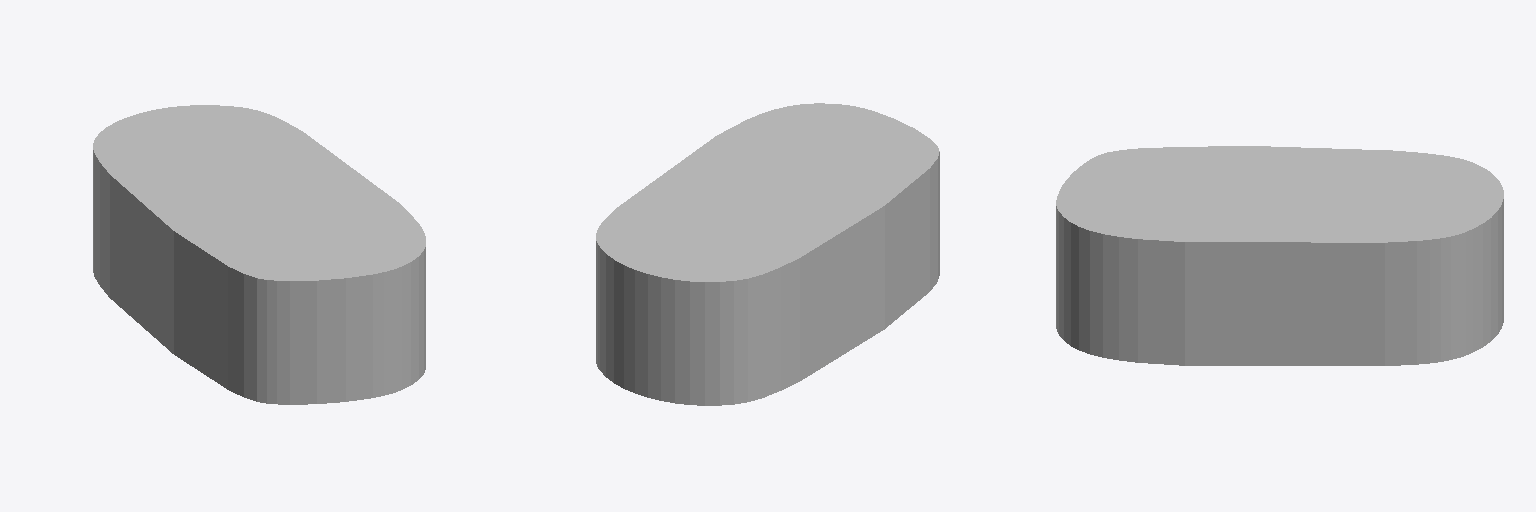
Rendered from mesa-obs-2.obj.
The picture shows the model from 3 angles: view 1: azimuth 30°, elevation 25°; view 2: azimuth 150°, elevation 25°; view 3: azimuth 270°, elevation 25°; orthographic projection.
Parts seen in each view (by area): view 1: mesa-obs-2; view 2: mesa-obs-2; view 3: mesa-obs-2.
Boxes of the visible parts, box(x1,y1,x2,y2) form: mesa-obs-2: box(93, 105, 425, 404); mesa-obs-2: box(596, 103, 939, 405); mesa-obs-2: box(1056, 146, 1503, 365).
Bounding box in the file's own units: 0.0318 × 0.0189 × 0.062.